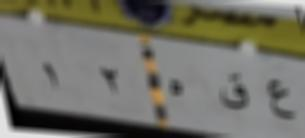1: (39, 57, 64, 92)
2: (100, 64, 124, 97)
ain: (263, 76, 295, 122)
haa: (166, 72, 187, 103)
qaaf: (214, 71, 252, 116)
